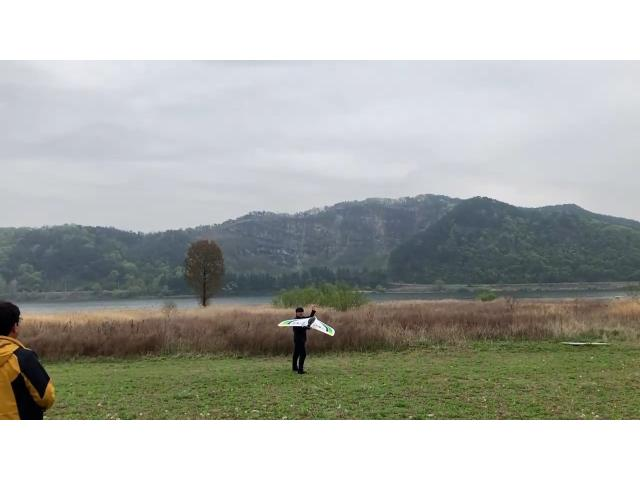Anti-Drone: (270, 304, 346, 344)
